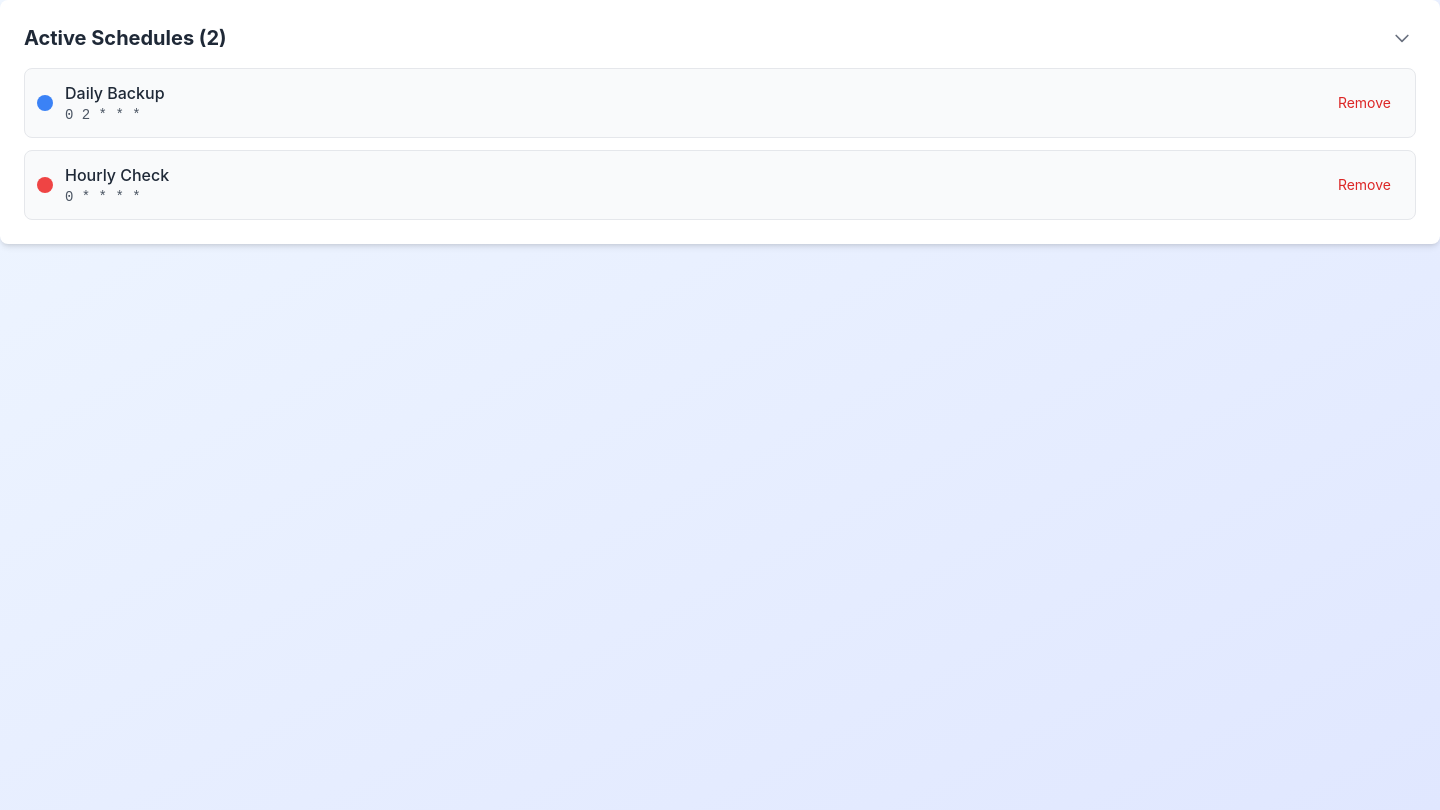
Test: ScheduleList › Rename Feature › should cancel on Escape key
The width and height of the screenshot is (1440, 810).
Click the text "Daily Backup" at (115, 93), box [65,83,165,103]
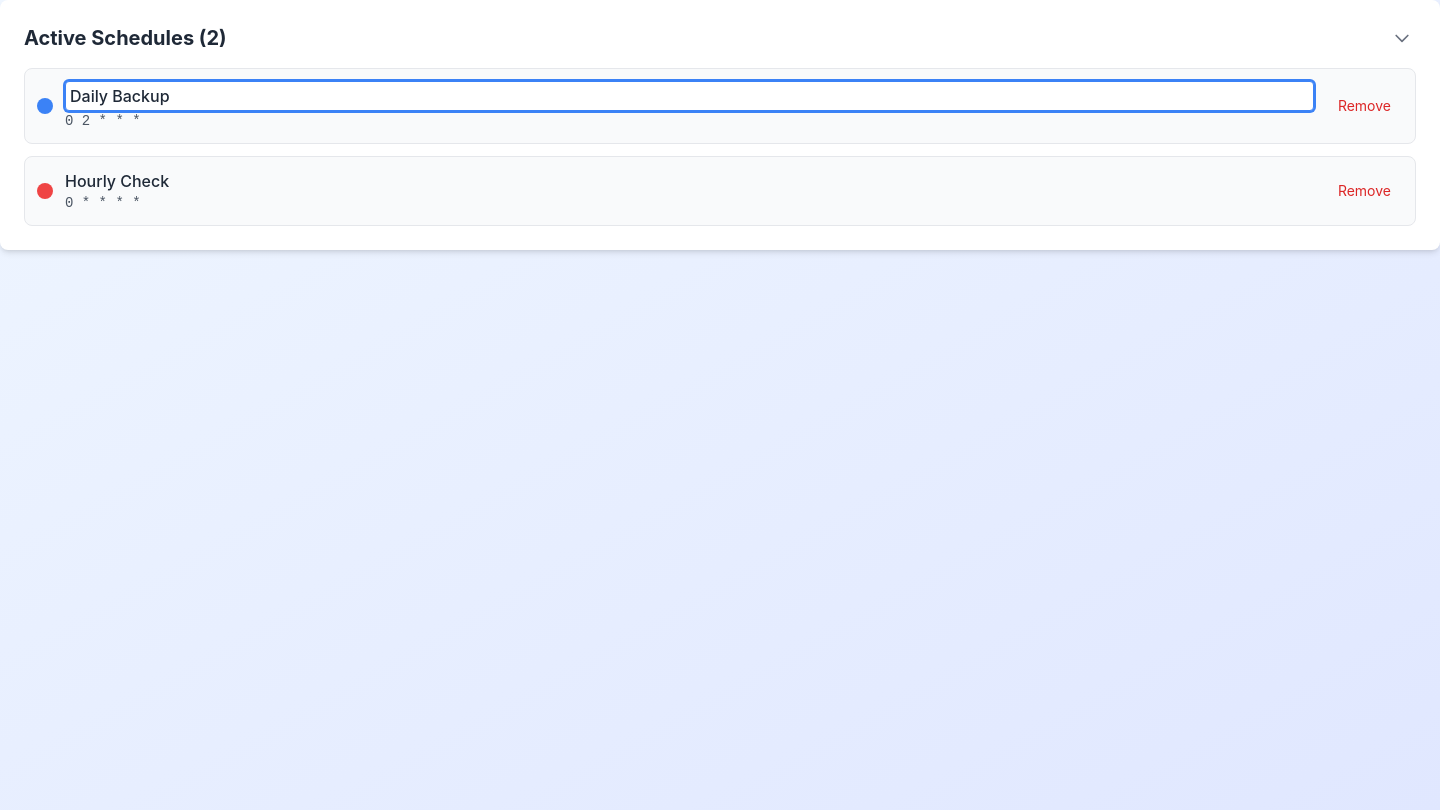
Replace the text in the field showing "Daily Backup" with "New Name" at (689, 96), box [65,81,1314,111]
Then press Escape
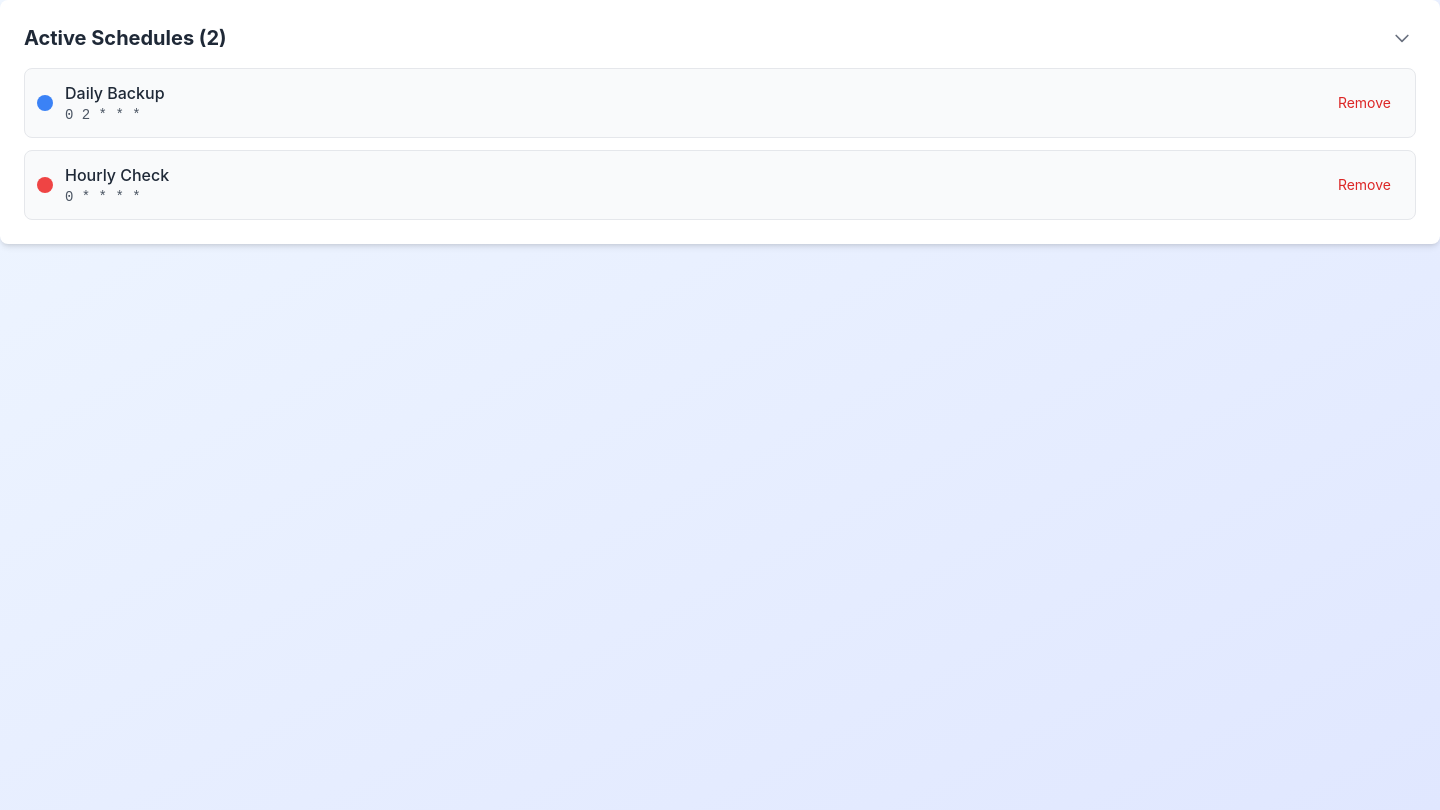
Now the text "Daily Backup" is shown, box [65,83,165,103]
